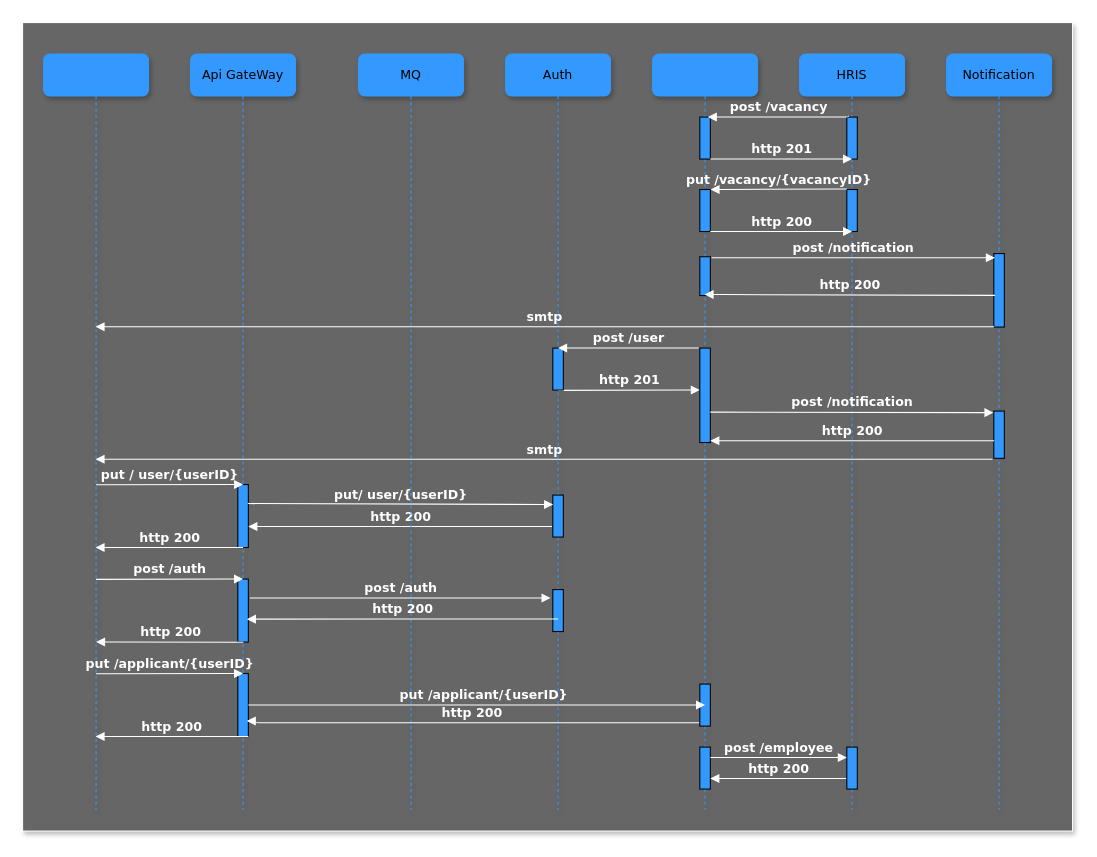
This 1097x857 diagram has some shape labels left out. Here are the shapes that lost their labels. From the top down, the centre of each, then its label:
At [96,433]: "Applicant".
At [705,433]: "ATS".
